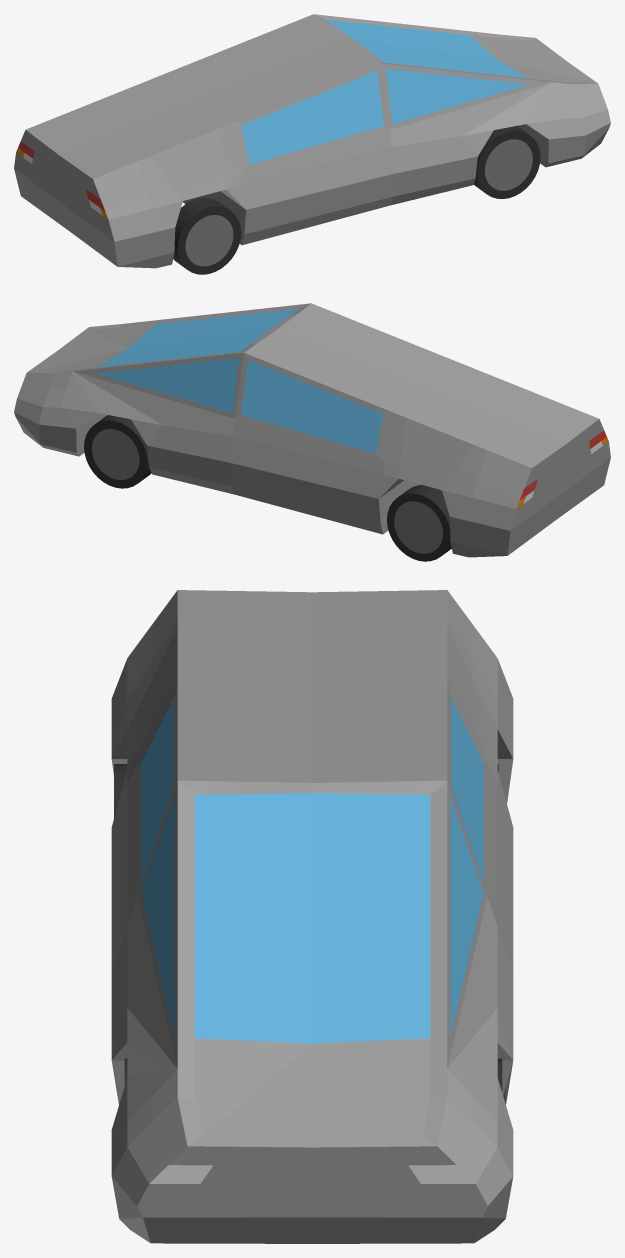
Rendered from Cybertruck.fbx.
3 views of the same model, one above another, from view 1: azimuth 30°, elevation 25°; view 2: azimuth 150°, elevation 25°; view 3: azimuth 270°, elevation 25° (orthographic). The views are drawn at different scales.
Parts seen in each view (by area): view 1: Cube, Cylinder, Cylinder.003; view 2: Cube, Cylinder.001, Cylinder.002; view 3: Cube.
Part boxes in pixels (bbox=[...]): Cube: bbox=[14, 14, 610, 268]; Cylinder: bbox=[173, 198, 241, 274]; Cylinder.003: bbox=[473, 126, 540, 198]; Cube: bbox=[14, 303, 610, 557]; Cylinder.001: bbox=[387, 485, 451, 561]; Cylinder.002: bbox=[84, 415, 151, 488]; Cube: bbox=[111, 590, 513, 1243].
Bounding box in the file's own units: 664 × 191 × 227.
